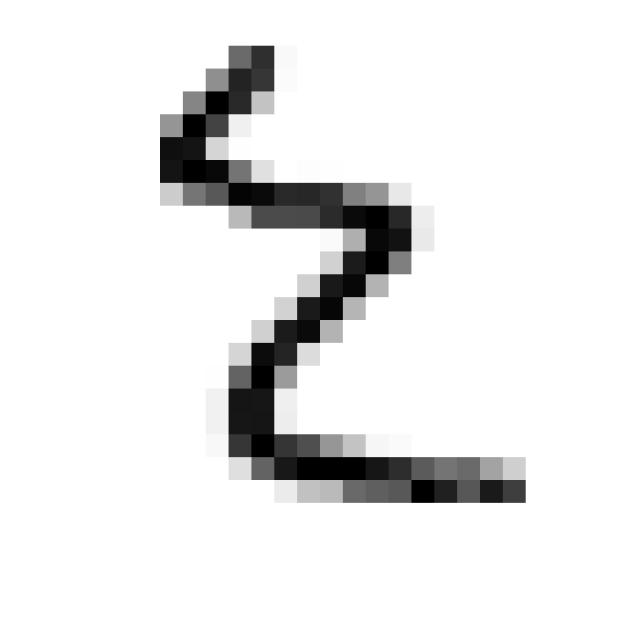4 -four-: (132, 23, 544, 526)
